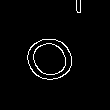O_N: (8, 19, 75, 82)
